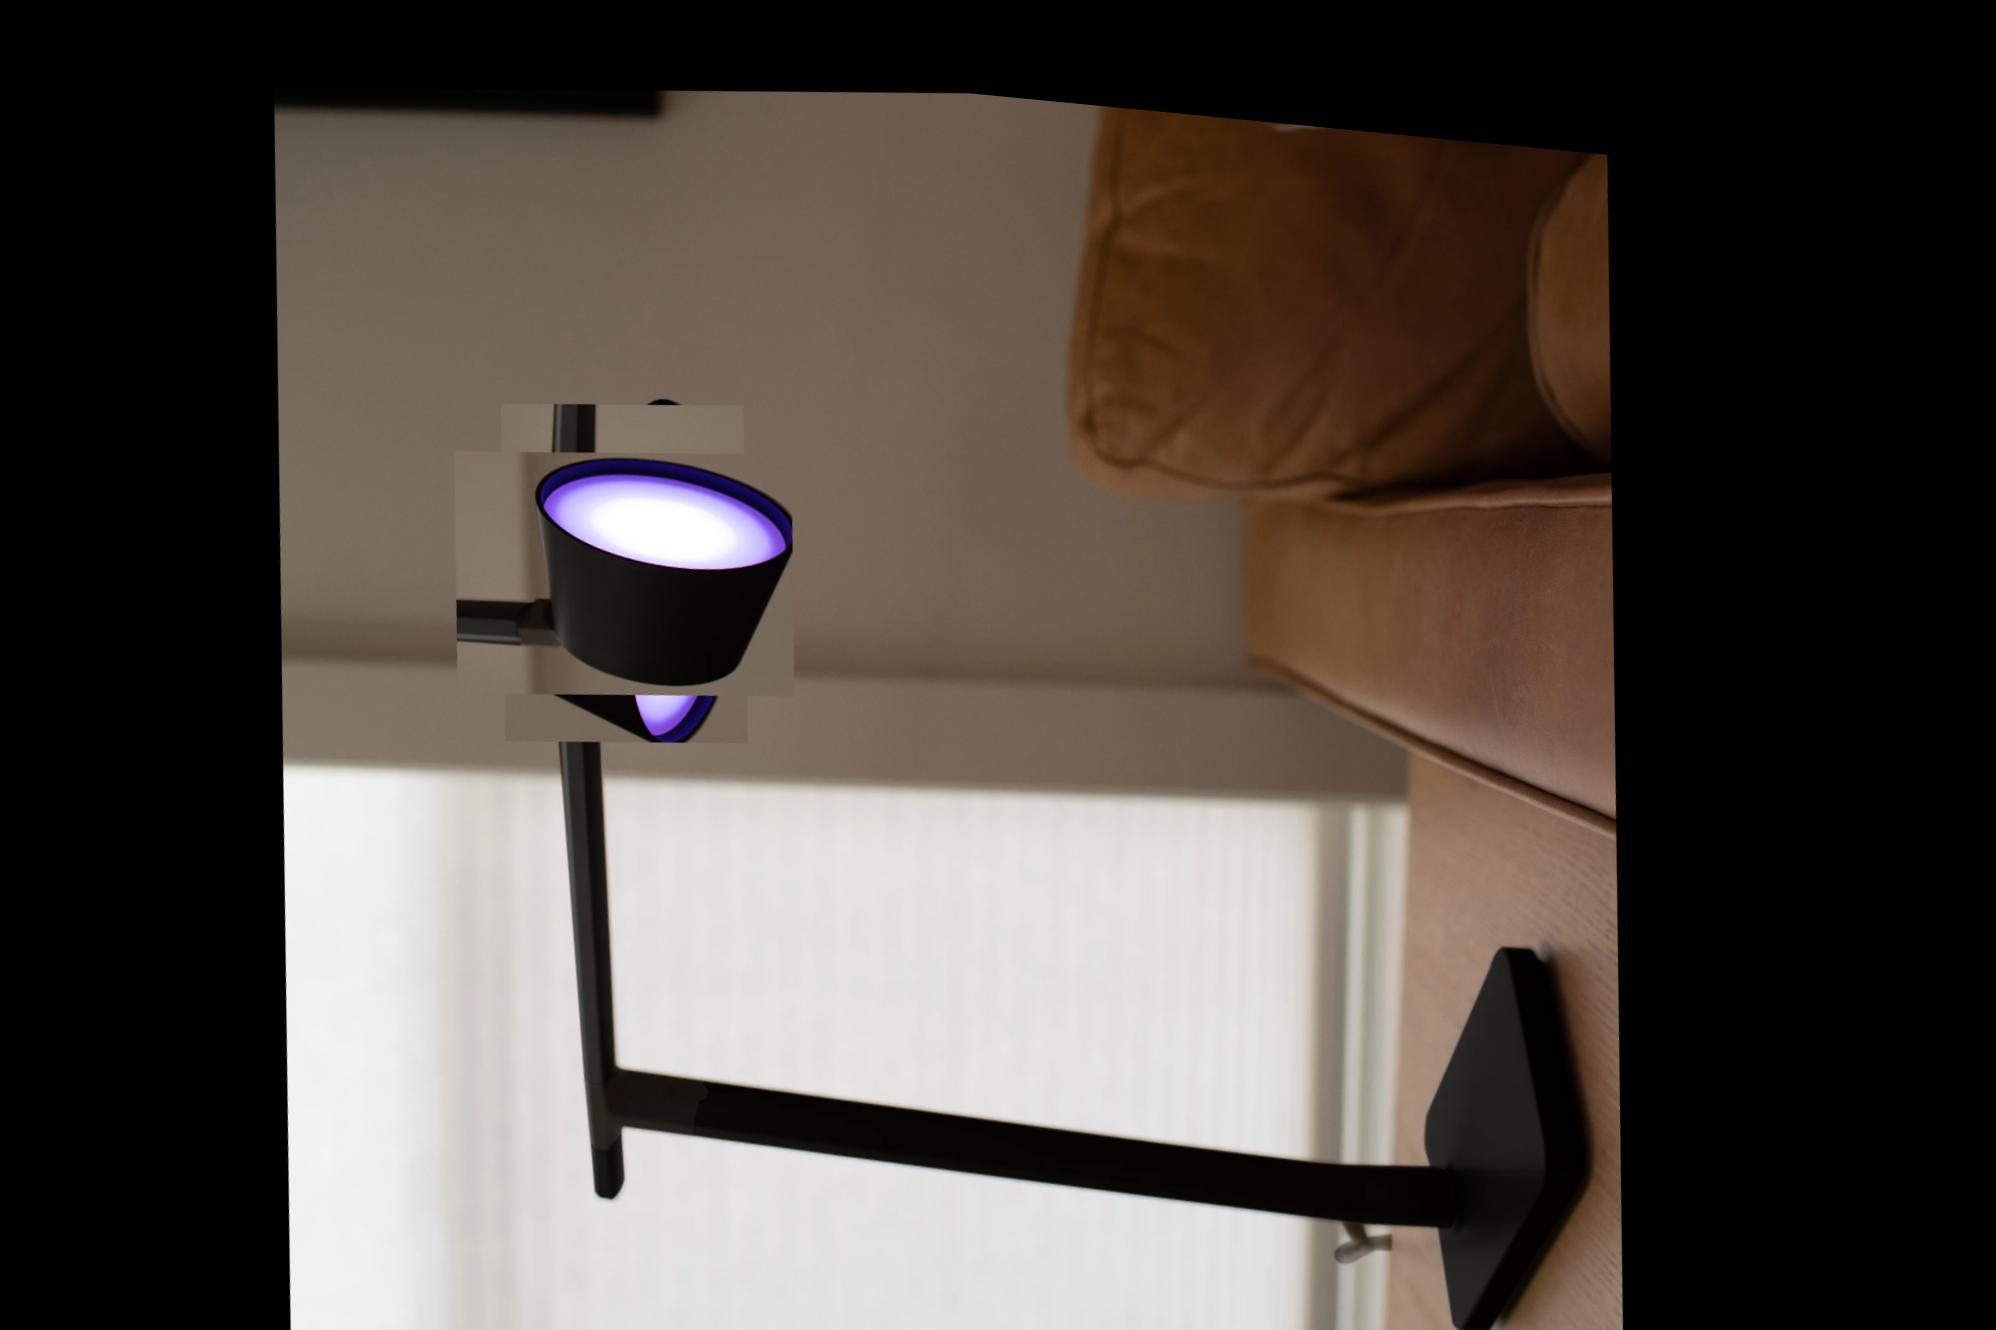TubeLight: (464, 392, 797, 729)
